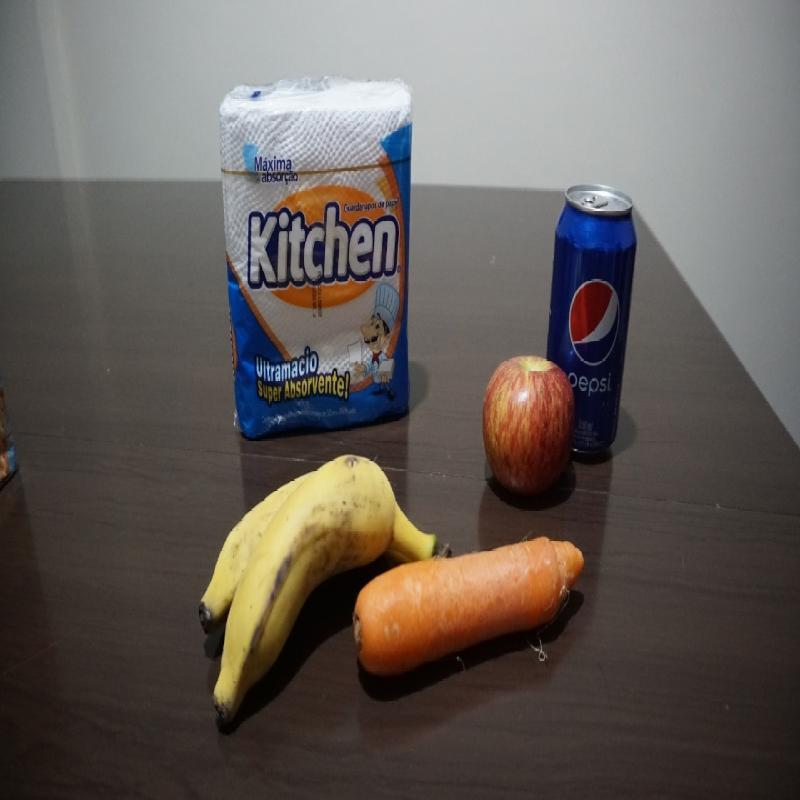Apple: (480, 352, 579, 499)
Banana: (199, 454, 450, 728)
Carrot: (351, 533, 589, 690)
Napkin: (217, 81, 419, 436)
Soda can: (543, 181, 640, 468)
